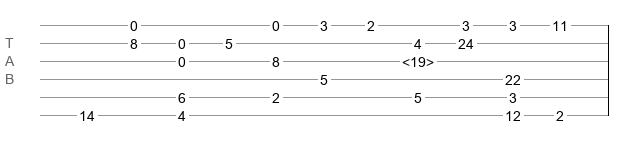0: (130, 18, 138, 28), (178, 54, 186, 64), (178, 36, 186, 46), (272, 18, 280, 28)
11: (552, 18, 568, 28)
12: (505, 108, 521, 118)
14: (79, 108, 95, 118)
2: (272, 90, 280, 100), (367, 18, 375, 28), (556, 108, 564, 118)
22: (505, 72, 521, 82)
24: (458, 36, 474, 46)
3: (320, 18, 328, 28), (462, 18, 470, 28), (509, 18, 517, 28), (509, 90, 517, 100)
4: (178, 108, 186, 118), (414, 36, 422, 46)
5: (225, 36, 233, 46), (320, 72, 328, 82), (414, 90, 422, 100)
6: (178, 90, 186, 100)
8: (130, 36, 138, 46), (272, 54, 280, 64)
harmonic: (402, 54, 434, 64)
